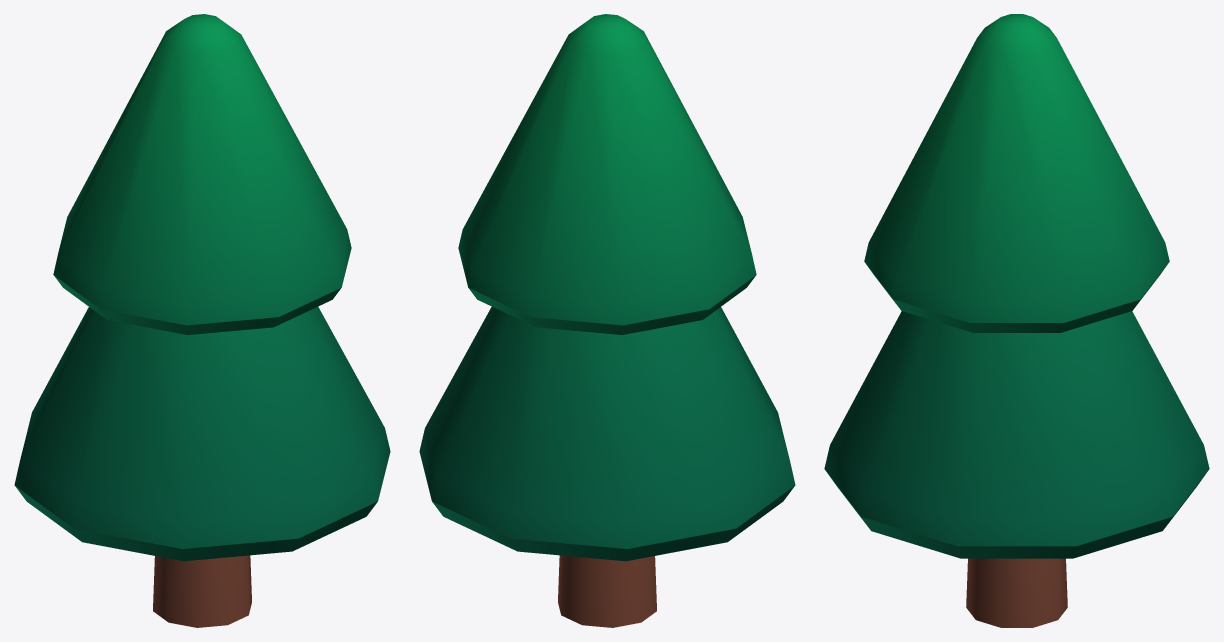
File: H_tree_single_B.glb
3 renders of one model, left to right at view 1: azimuth 30°, elevation 25°; view 2: azimuth 150°, elevation 25°; view 3: azimuth 270°, elevation 25°, orthographic.
Visible parts, largest first — view 1: tree_single_B; view 2: tree_single_B; view 3: tree_single_B.
Boxes of the visible parts, box(x1,y1,x2,y2) form: tree_single_B: box(14, 14, 390, 627); tree_single_B: box(419, 14, 795, 627); tree_single_B: box(824, 14, 1209, 627).
Size of the model in its own units: 0.6849 by 1.21 by 0.7201.
